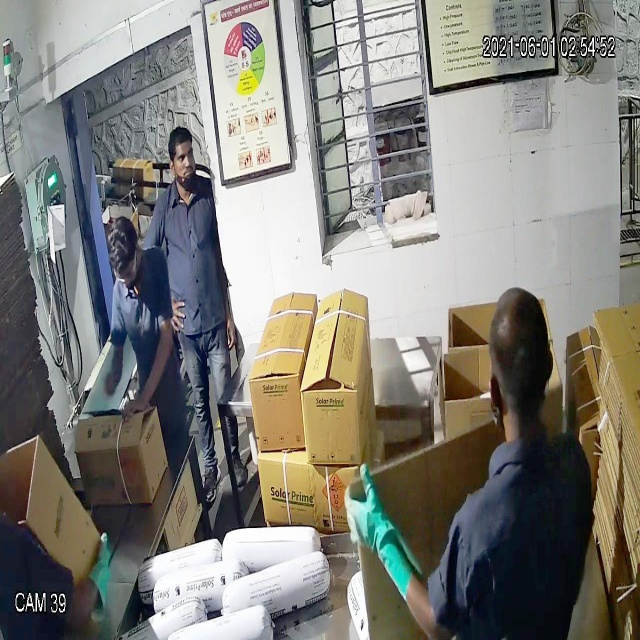Sin_gafas: (166, 144, 202, 171)
